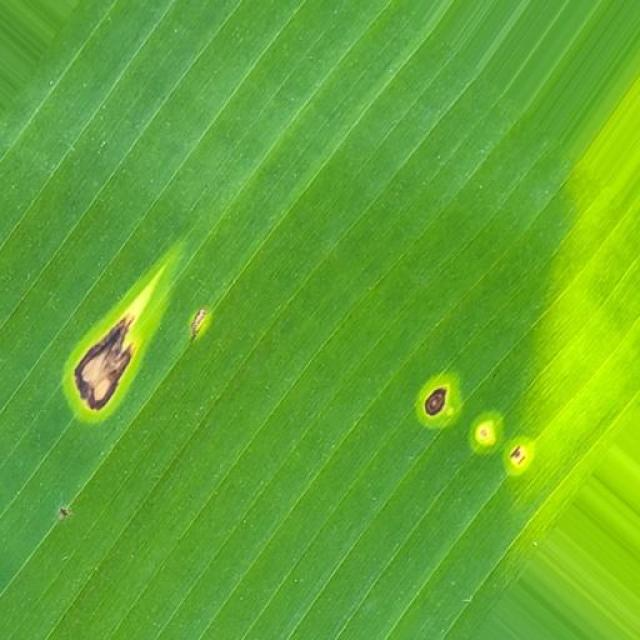Early_rust: (21, 240, 230, 447), (355, 355, 546, 509)
